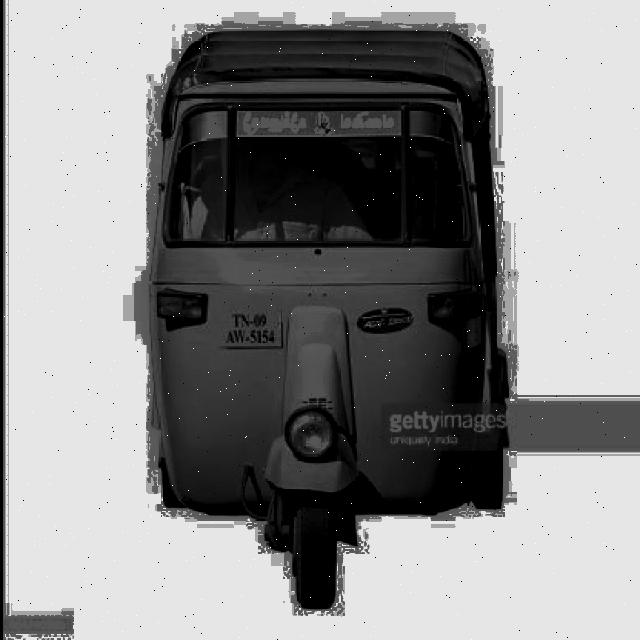Auto-Rickshaw: (148, 29, 514, 612)
